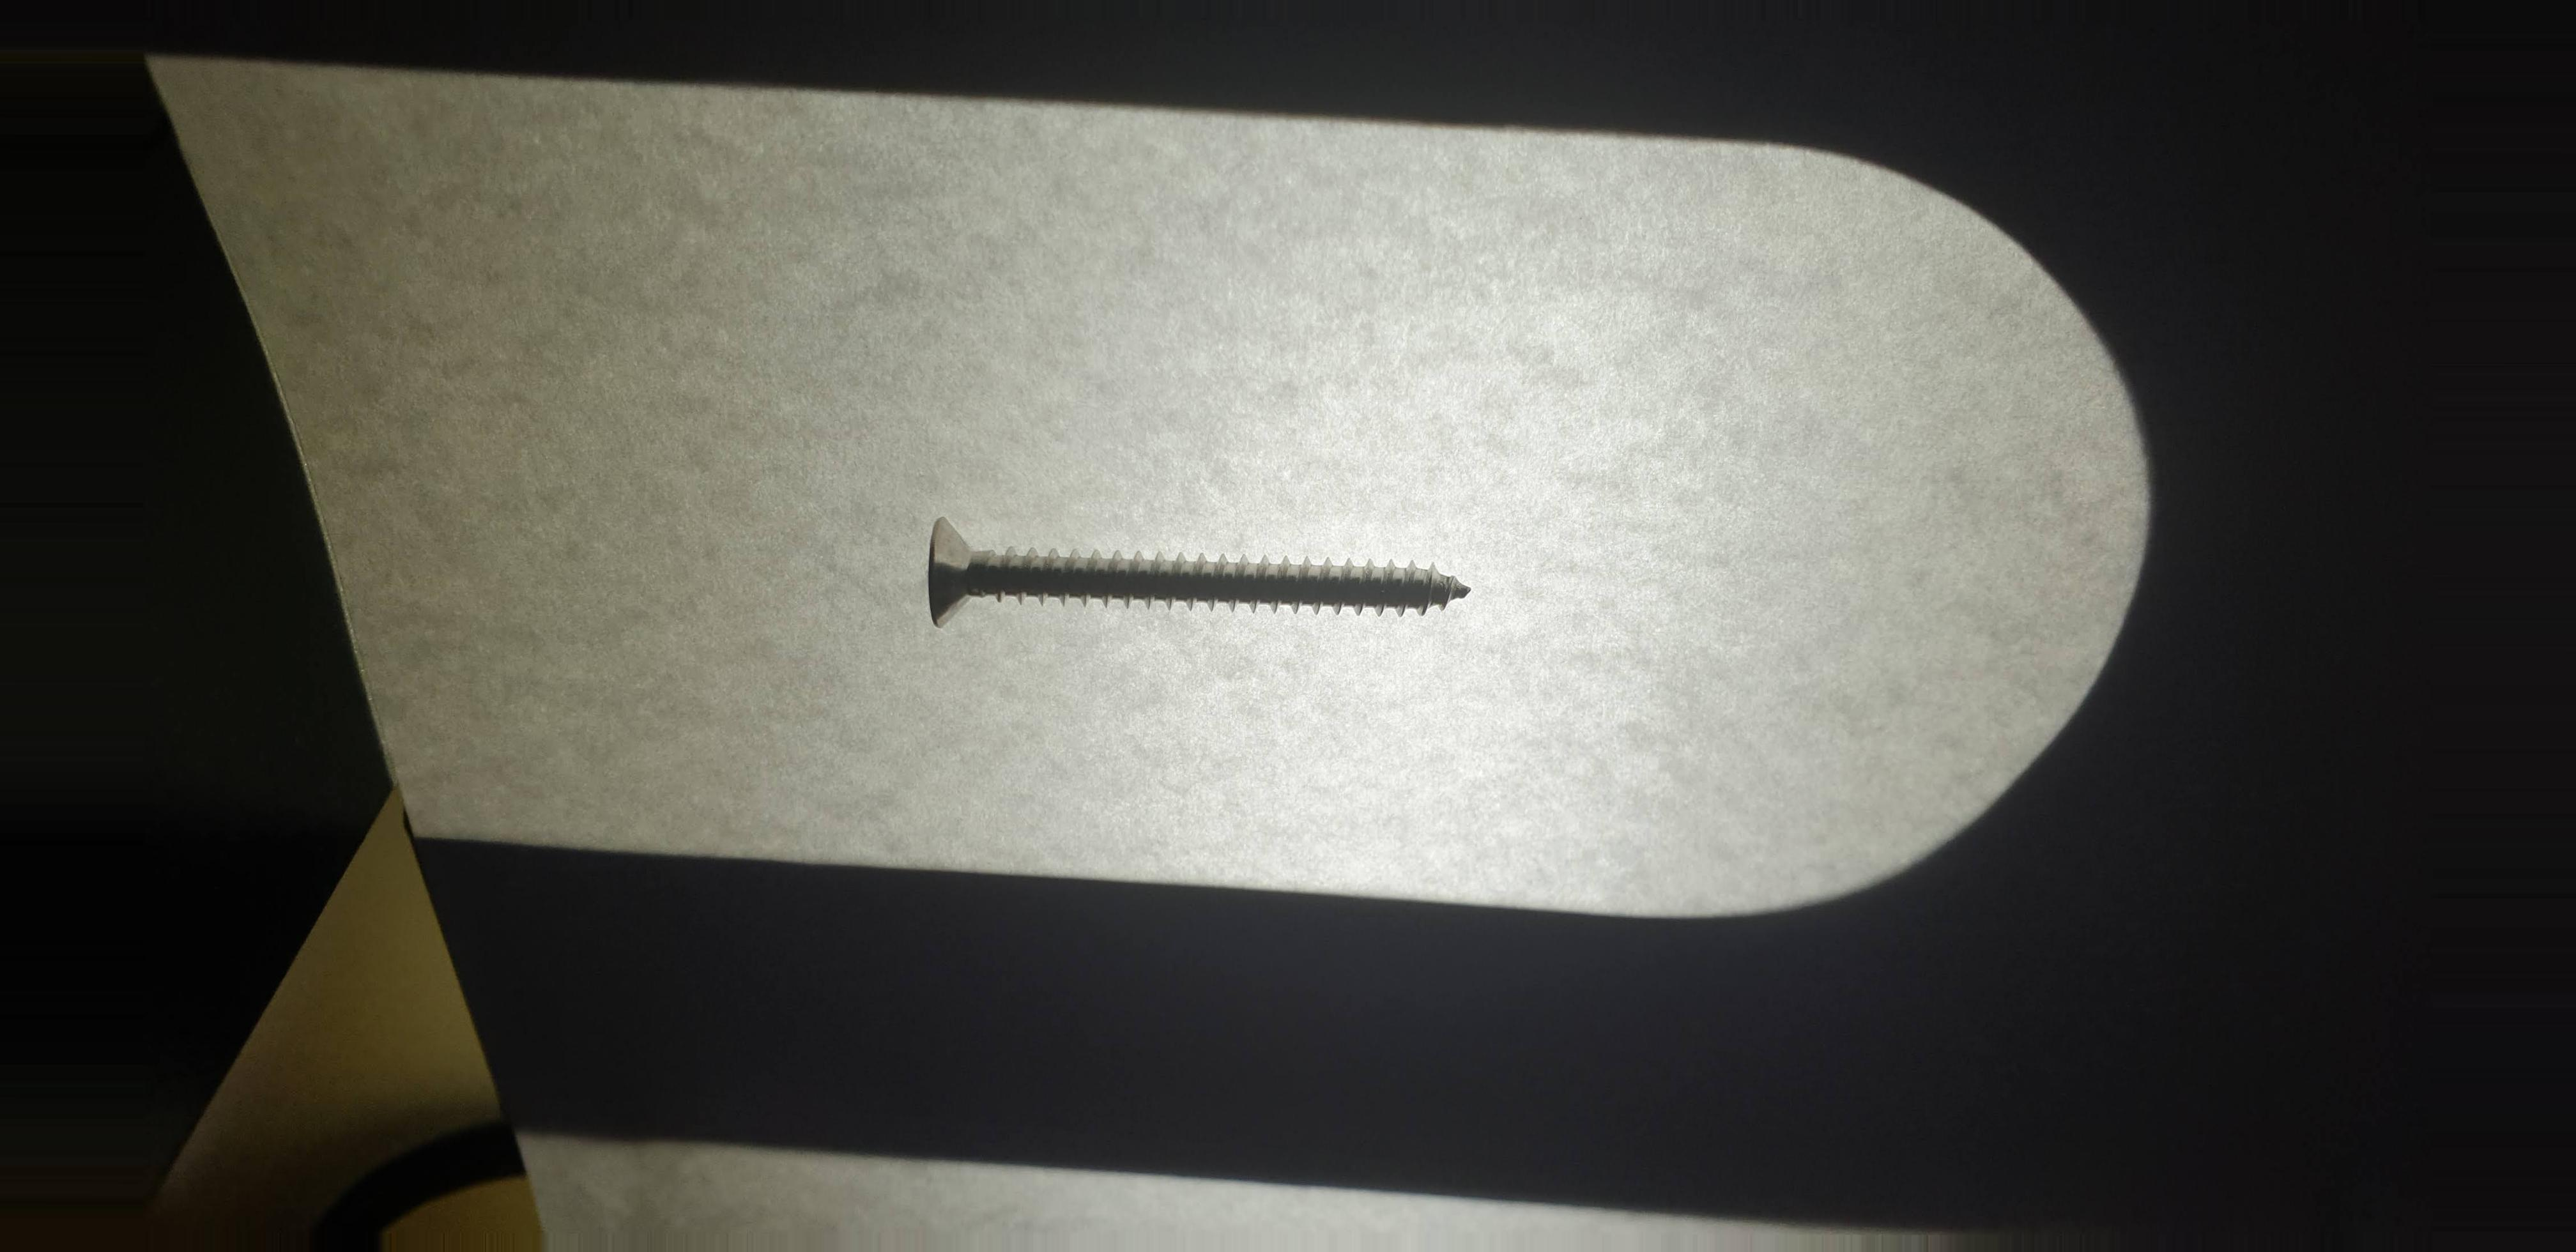S001: (894, 478, 1523, 693)
